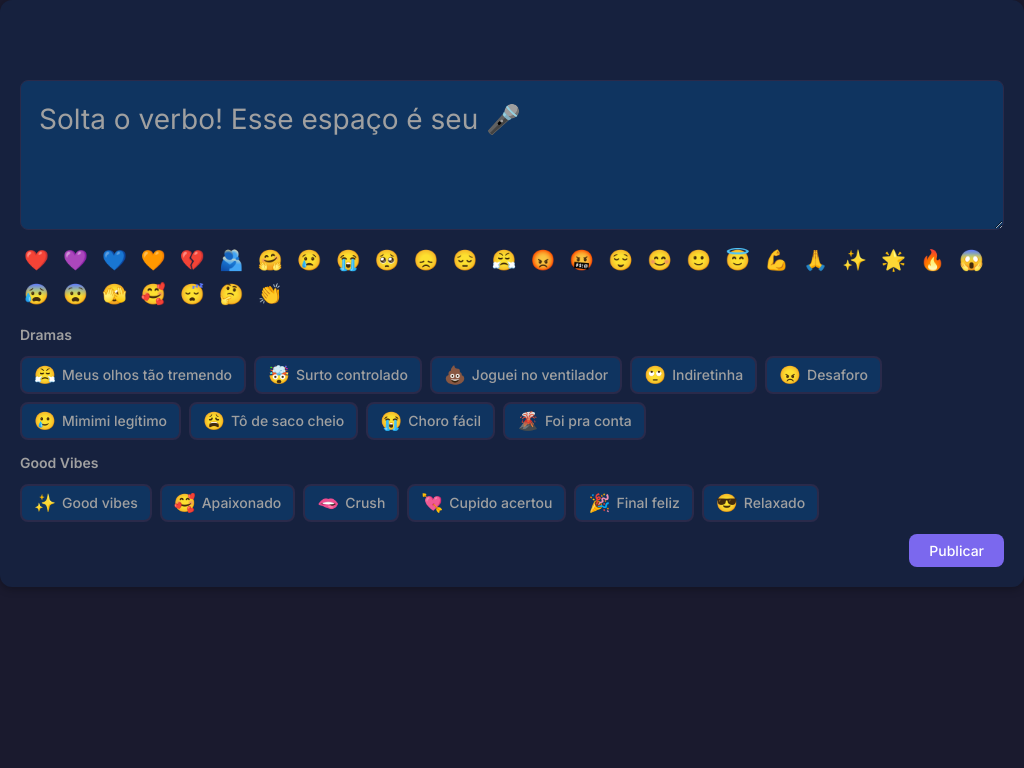
Test: InputBox › Validação › exibe erro quando nenhum sentimento está selecionado
The width and height of the screenshot is (1024, 768).
Type "Meu desabafo" into the text box named "Texto do desabafo" at (512, 155), box x1=20 y1=80 x2=1004 y2=230
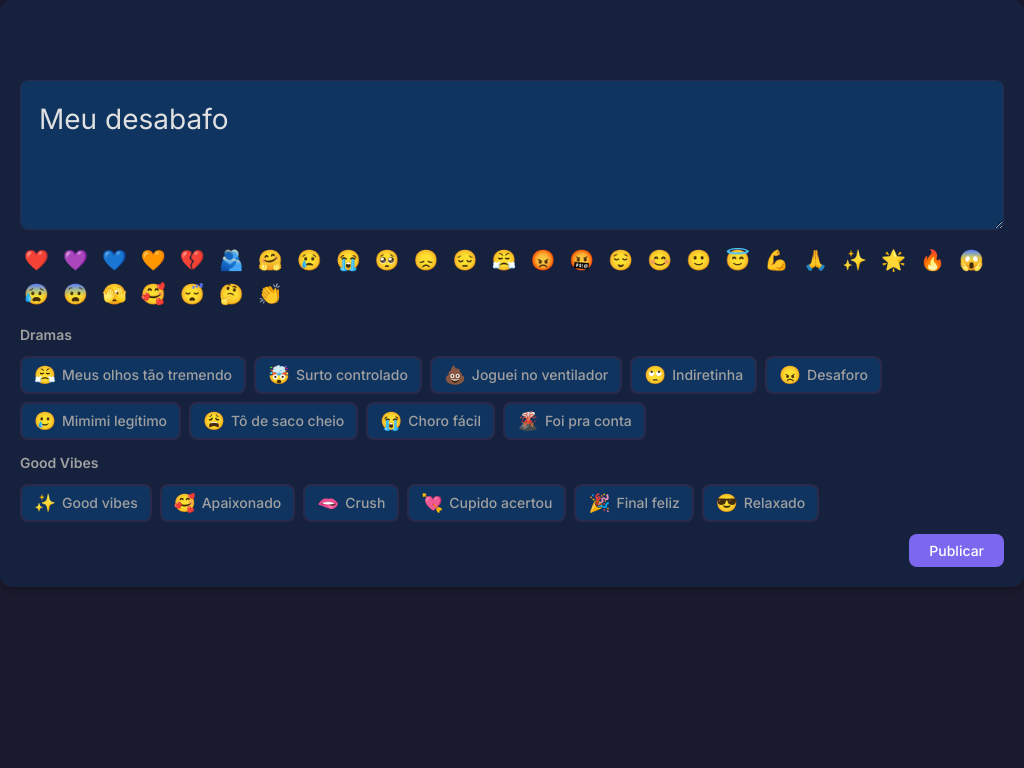
Click the button "Publicar" at (957, 550), box x1=909 y1=534 x2=1004 y2=567
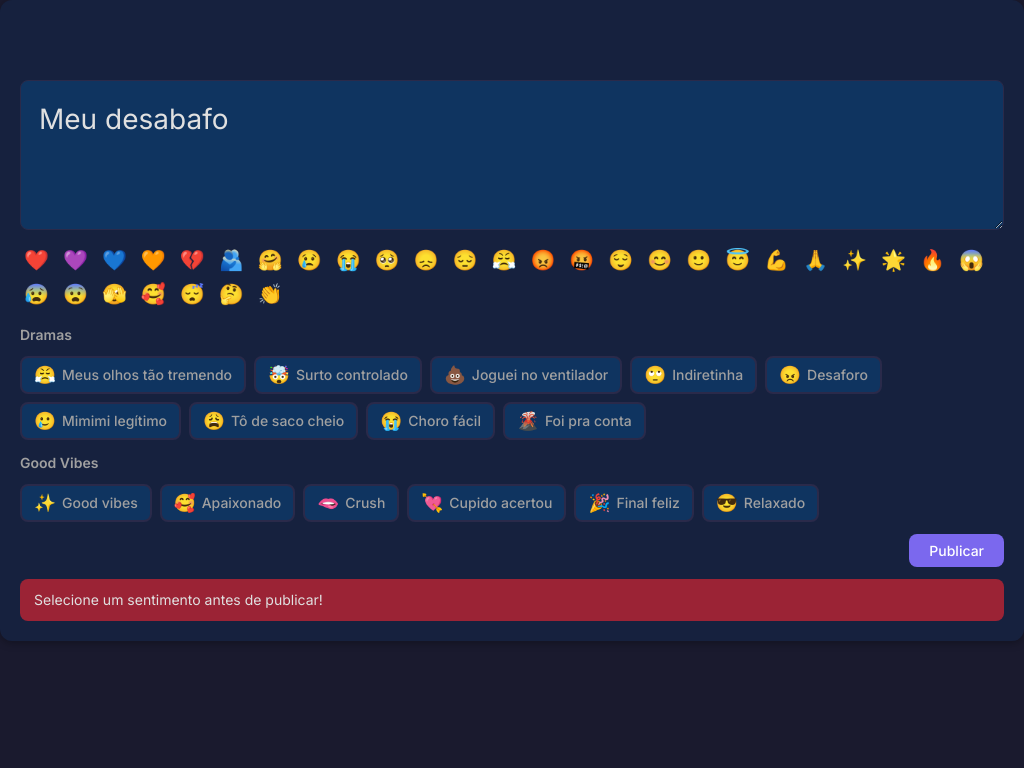
Expected: the text "Selecione um sentimento antes de publicar!" is shown, x1=20 y1=579 x2=1004 y2=621
